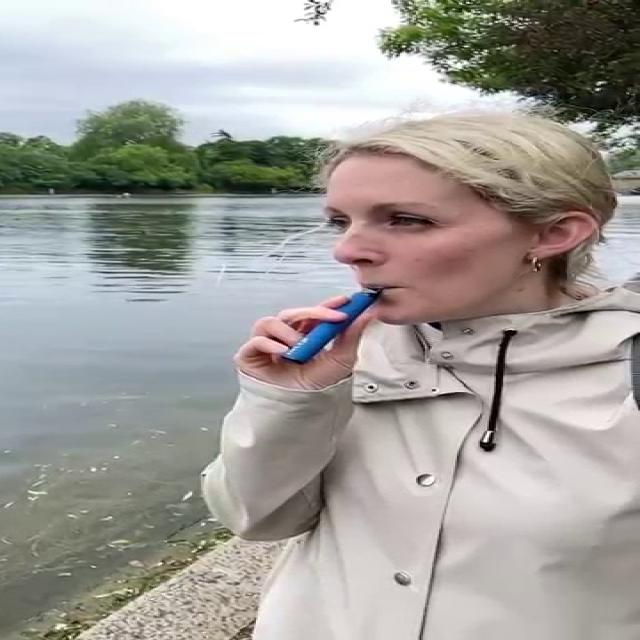Cigarette: (282, 288, 380, 365)
Hand: (233, 296, 373, 391)
Mouth: (358, 282, 414, 294)
